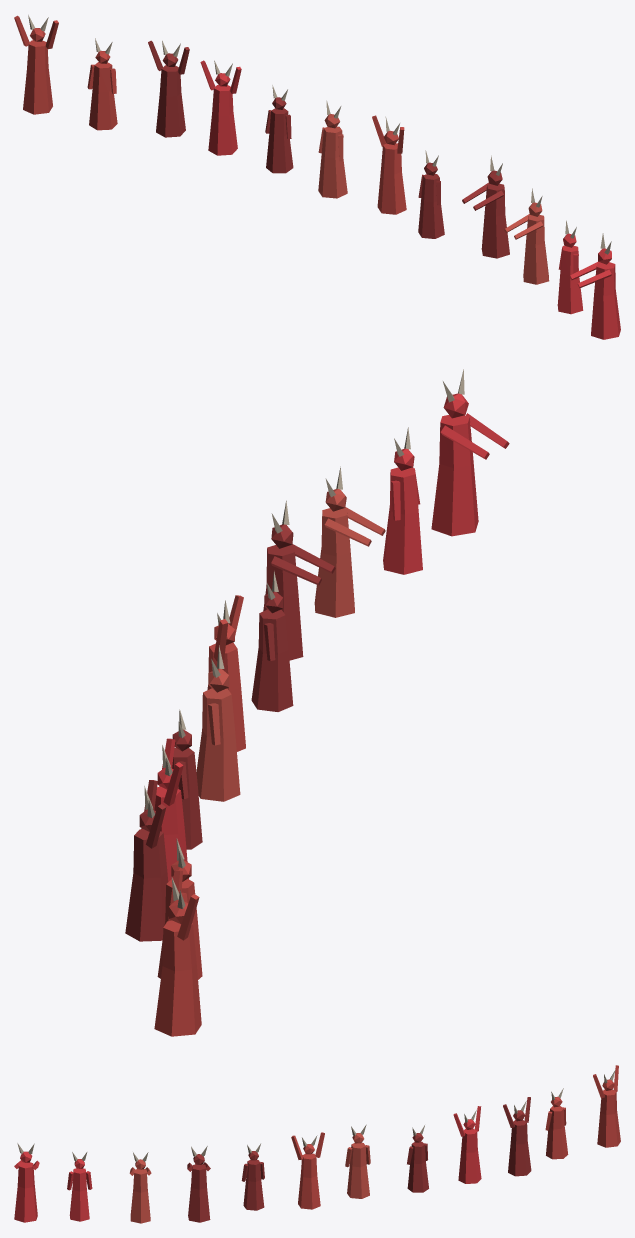
File: Stands_8_1_2_Ice.obj
3 views of the same model, one above another, from view 1: azimuth 30°, elevation 25°; view 2: azimuth 150°, elevation 25°; view 3: azimuth 270°, elevation 25° (orthographic). The views are drawn at different scales.
Visible parts, largest first — view 1: Stands_8_1_2_Ice; view 2: Stands_8_1_2_Ice; view 3: Stands_8_1_2_Ice.
Part boxes in pixels (left/top/right/bottom): Stands_8_1_2_Ice: left=14, top=15, right=620, bottom=339; Stands_8_1_2_Ice: left=125, top=369, right=509, bottom=1036; Stands_8_1_2_Ice: left=14, top=1065, right=620, bottom=1223.
Size of the model in its own units: 10.91 by 4.38 by 31.9.
Materials: 1 (1 with a texture image).
